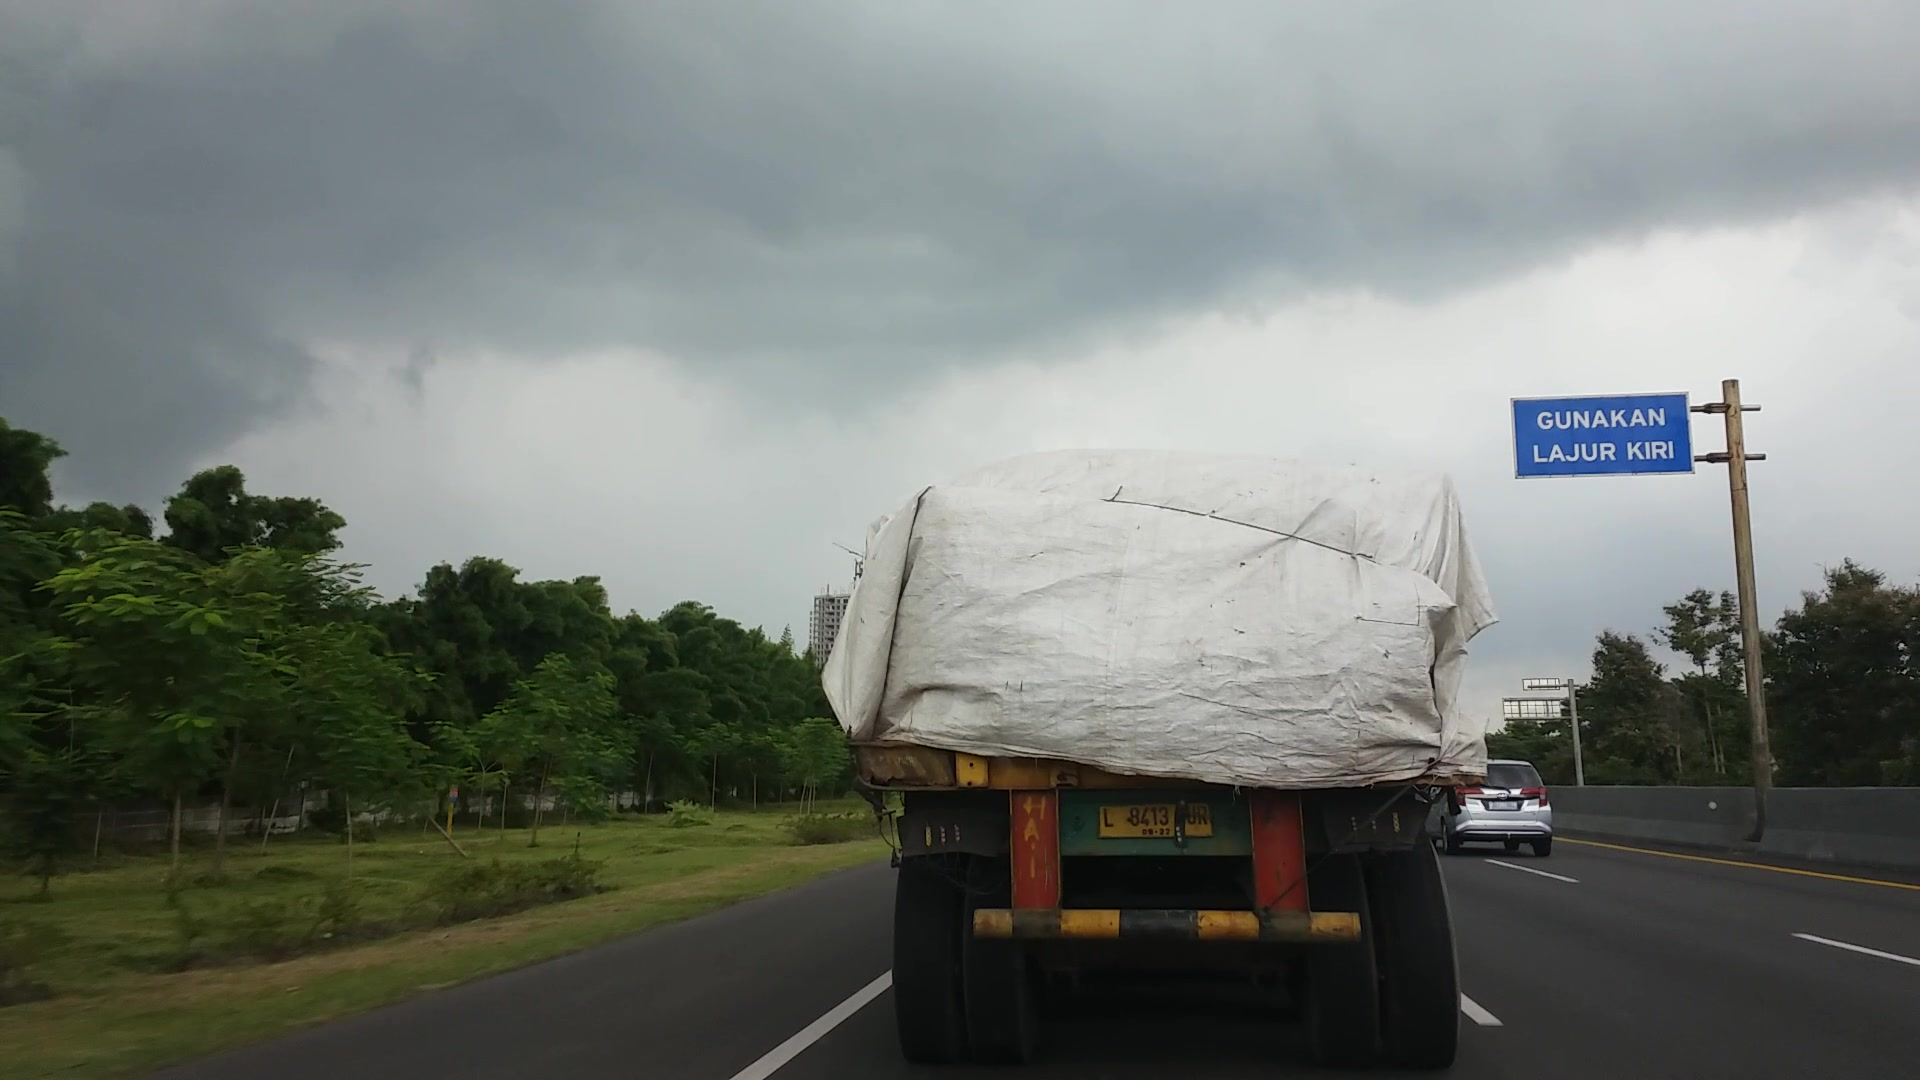plate_positive: (1098, 803, 1212, 837)
